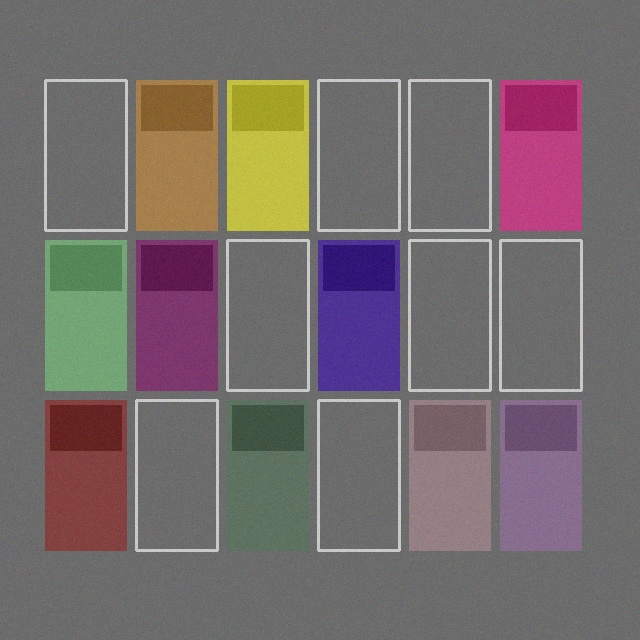space-empty: (45, 80, 126, 230), (318, 80, 399, 230), (409, 80, 490, 230), (227, 240, 308, 390), (409, 240, 490, 390), (500, 240, 581, 390), (136, 400, 217, 550), (318, 400, 399, 550)
space-occupied: (136, 80, 217, 230), (227, 80, 308, 230), (500, 80, 581, 230), (45, 240, 126, 390), (136, 240, 217, 390), (318, 240, 399, 390), (45, 400, 126, 550), (227, 400, 308, 550), (409, 400, 490, 550), (500, 400, 581, 550)
